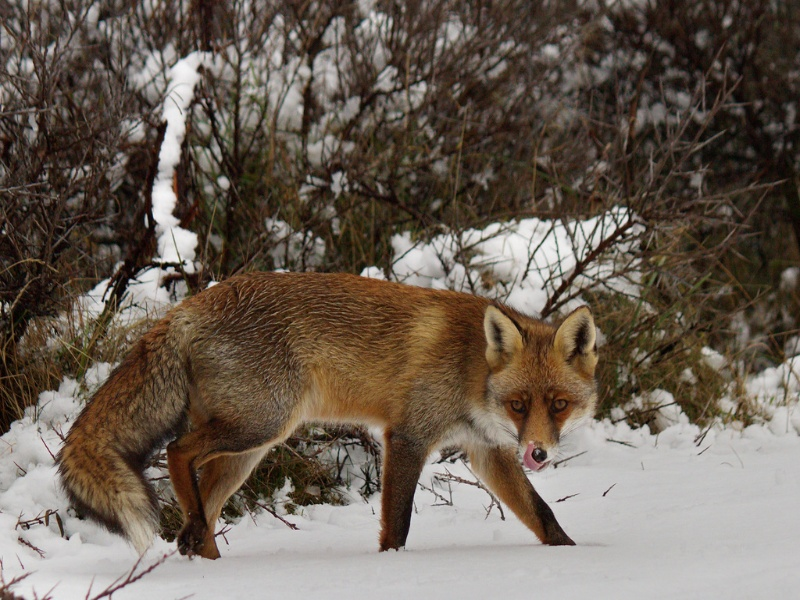fox: (54, 273, 606, 569)
